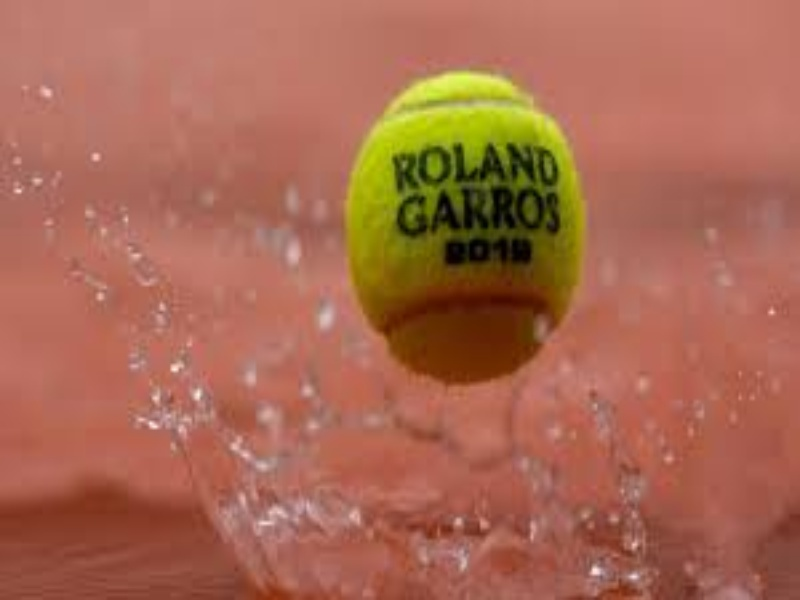tennis ball: (346, 65, 600, 391)
